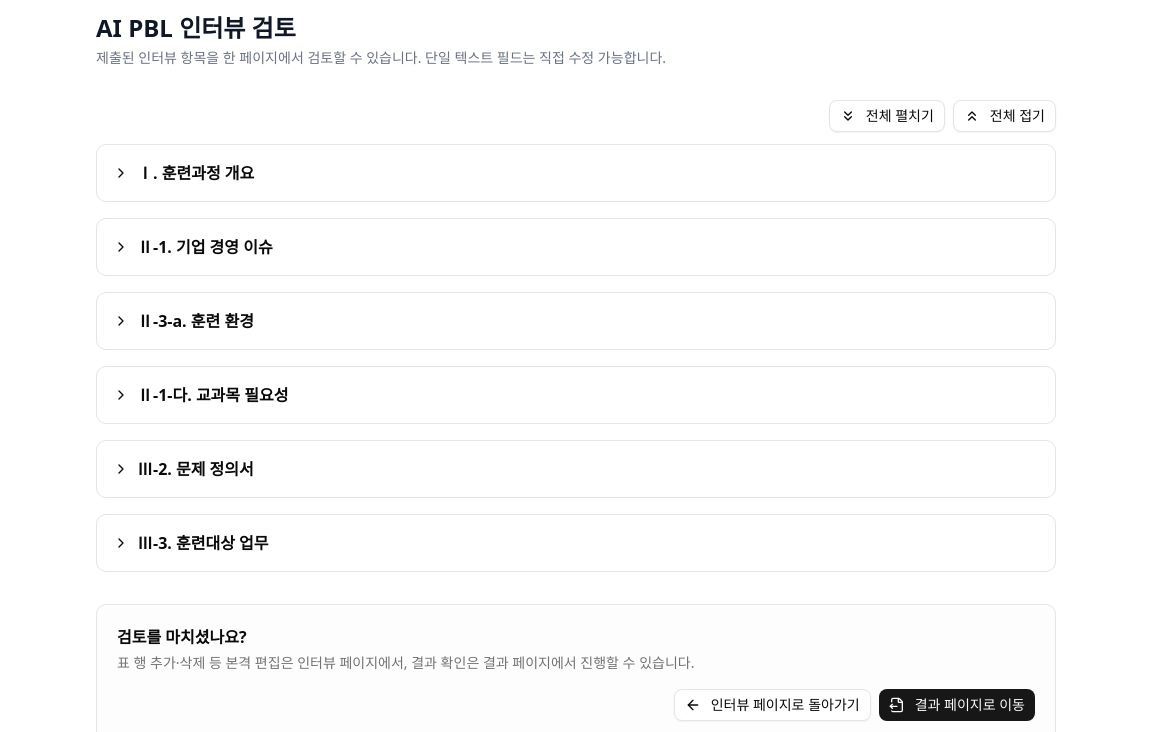
Test: InterviewReviewClient › PBL 트랙 › Ⅲ-2 문제 정의서 — 데이터 있을 때 항목 렌더
The width and height of the screenshot is (1152, 732).
Click the button "Ⅲ-2. 문제 정의서" at (195, 469), box [113,457,1039,481]
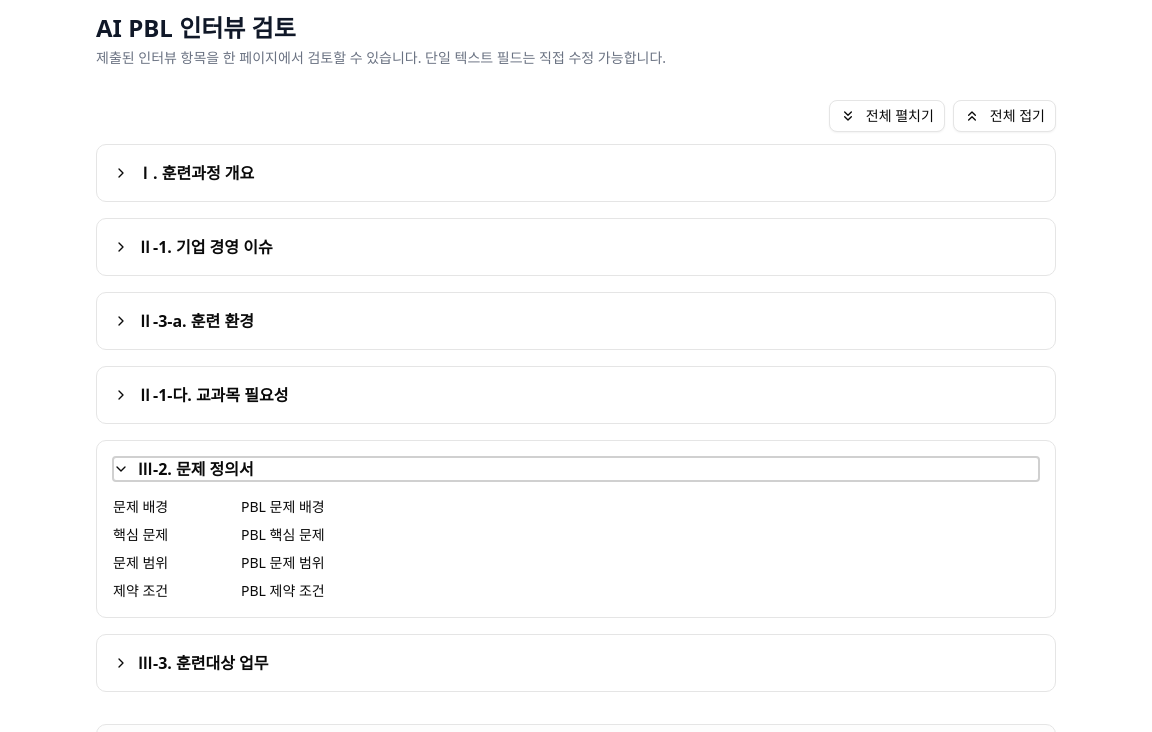
Result: the text "PBL 핵심 문제" is shown at [241,525,325,544]
